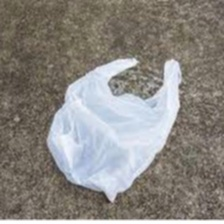plastic_bag: (33, 48, 186, 206)
